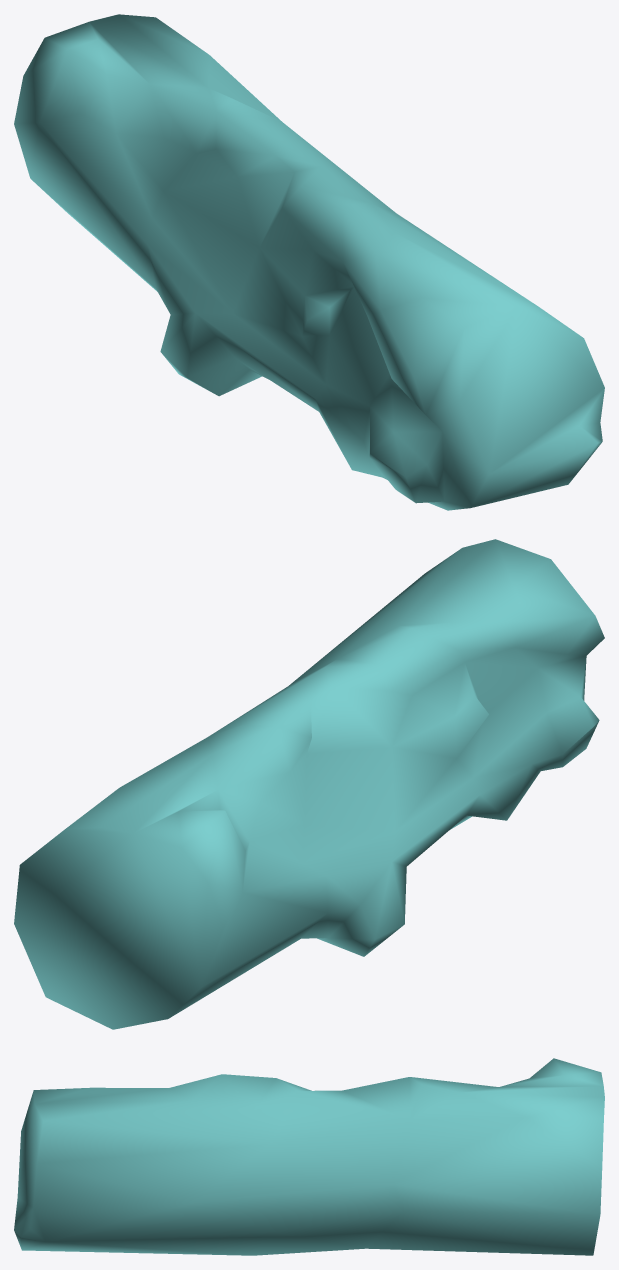
Rendered from log.fbx.
The picture shows the model from 3 angles, top to bottom: view 1: azimuth 30°, elevation 25°; view 2: azimuth 150°, elevation 25°; view 3: azimuth 270°, elevation 25°; orthographic projection. The views are drawn at different scales.
Visible parts, largest first — view 1: log; view 2: log; view 3: log.
Boxes of the visible parts, bbox=[...] form: log: bbox=[14, 14, 604, 510]; log: bbox=[14, 539, 604, 1029]; log: bbox=[14, 1058, 604, 1255].
Size of the model in its own units: 0.2963 by 0.3145 by 1.
